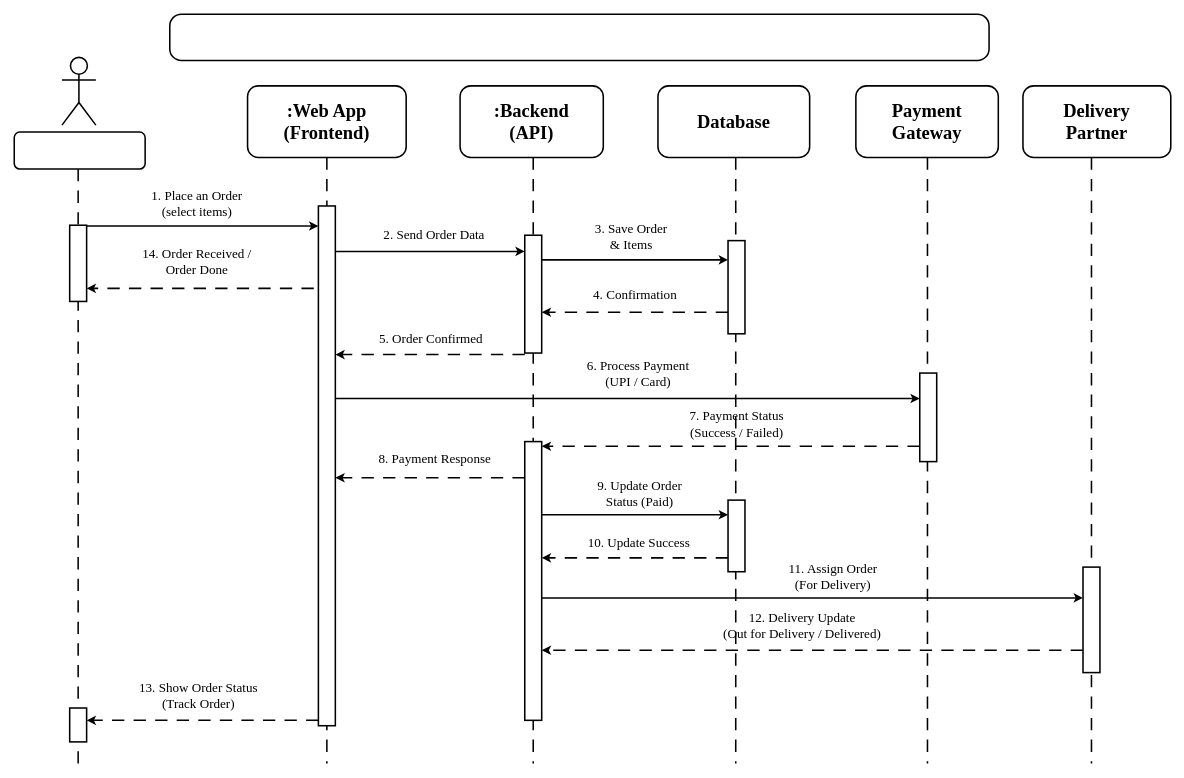
The diagram is 1184 pixels wide and 778 high, and some of its shapes have lost their labels. The shapes that lost their labels are listed below. From the top down, each one's centre as x and y in pixels, then its label:
(579,37): CRAV System – Sequence Diagram (Fast Food Order System)
(79,150): Customer
